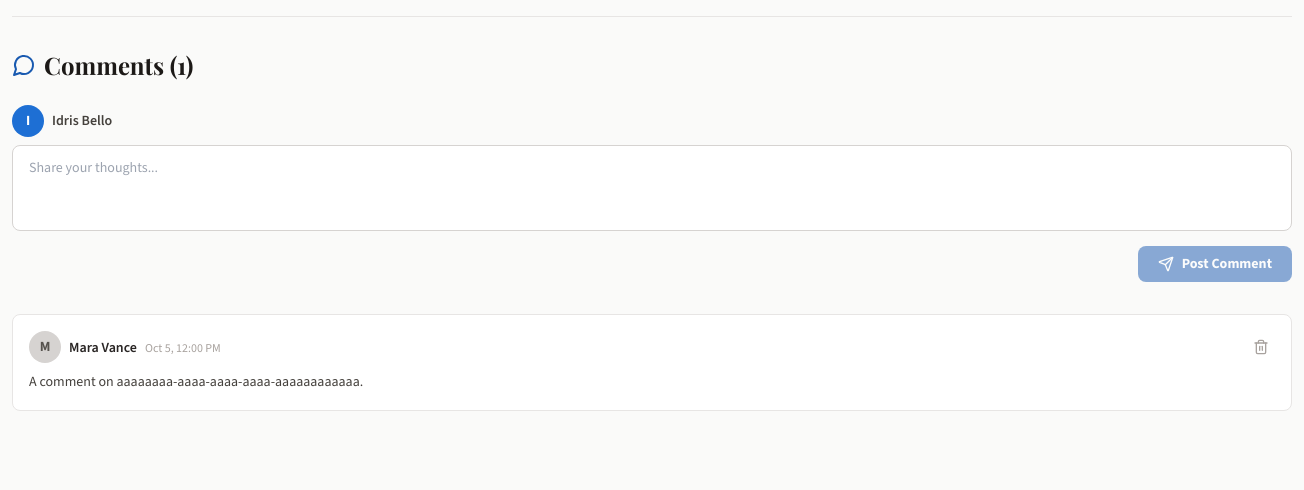
a write error that settles after the reader has navigated (BEL-189) › still shows the failure on the story the write was made on
Click the button titled "Delete comment".
click(1261, 347)  # box [1247,333,1275,361]
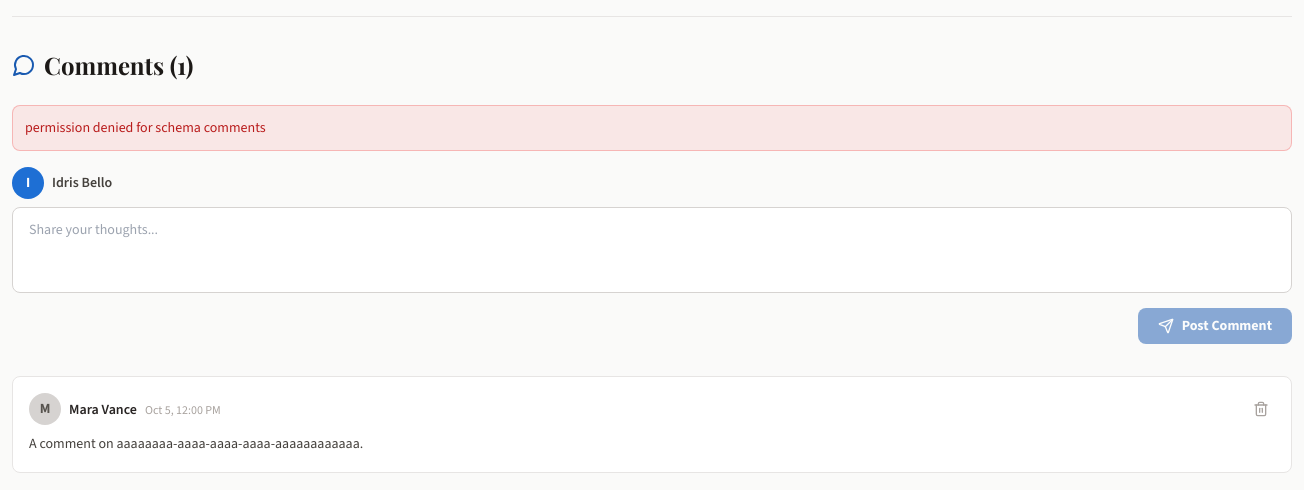
Result: the text "permission denied for schema comments" is shown at [12,105,1292,151]
